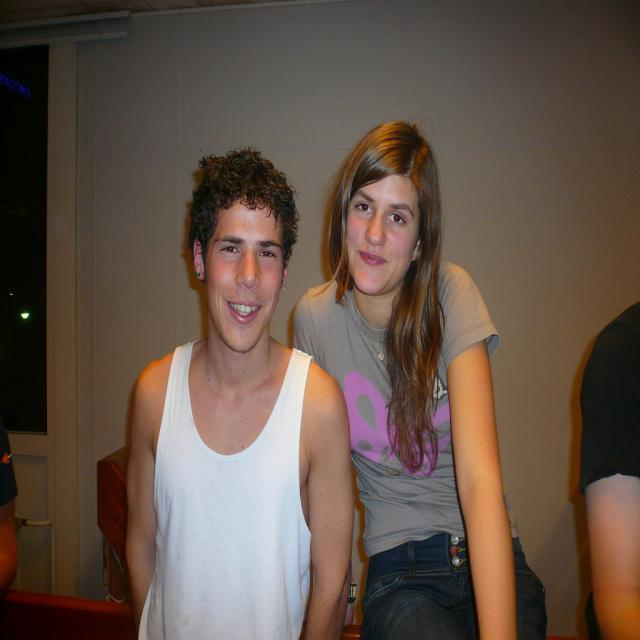closed-mouth: (357, 247, 388, 270)
